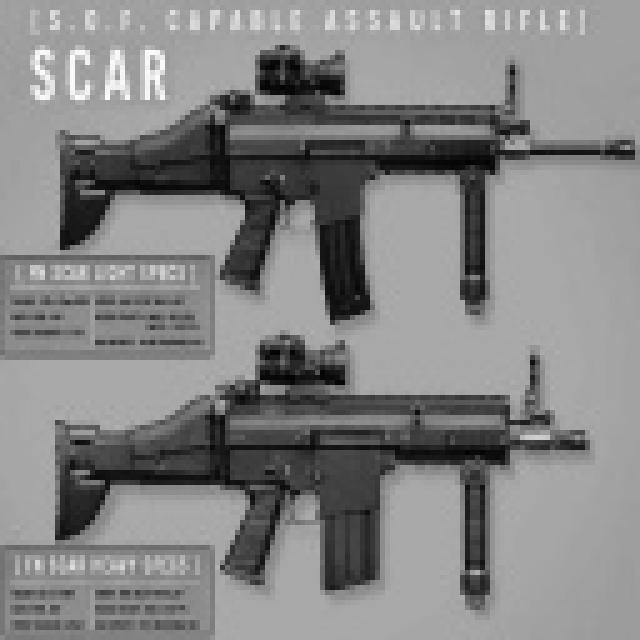Rifle: (19, 303, 623, 640), (35, 5, 640, 340)
